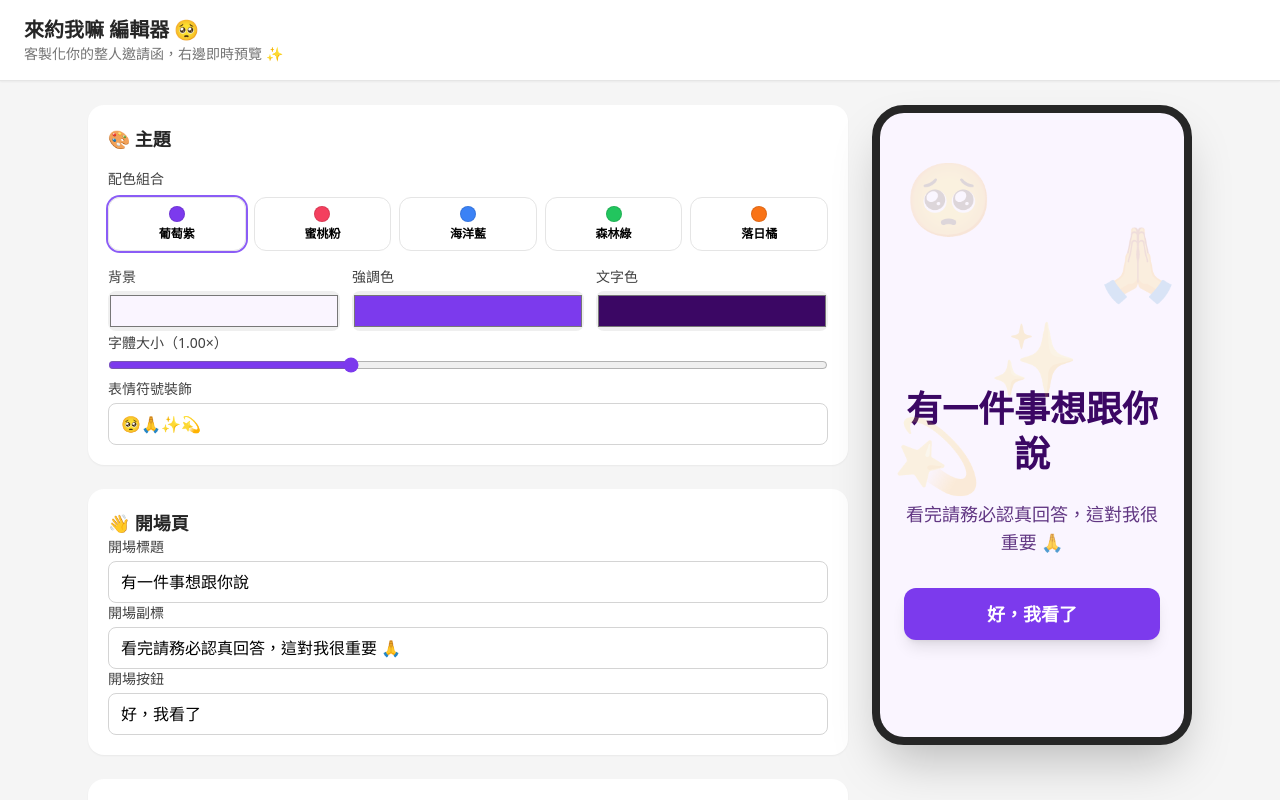
Test: EditorPage — layout › typing intro title updates the phone-frame preview copy
This screenshot has width=1280, height=800.
In the field labelled "開場標題": (468, 582) [108, 561, 828, 603], type "abc"
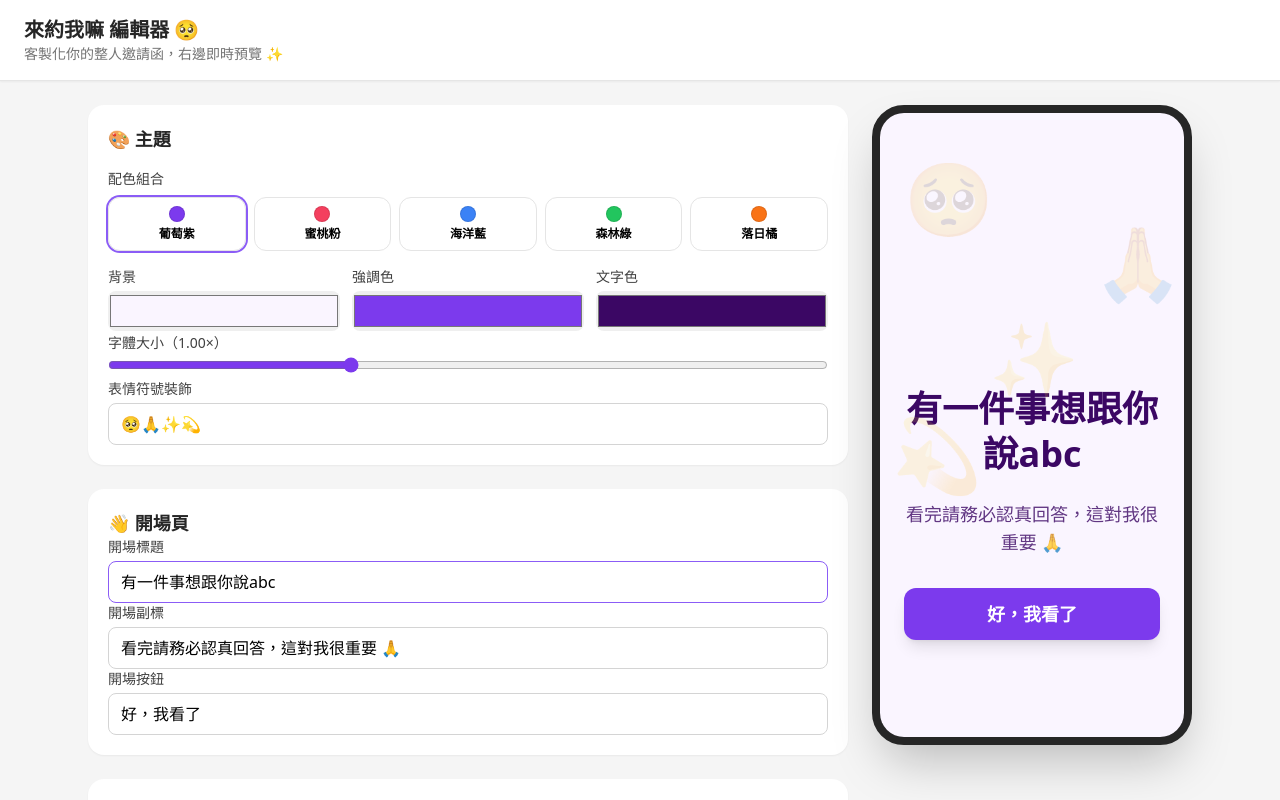
Expected: the heading with test id "intro-title" reads "有一件事想跟你說abc", [906, 384, 1158, 478]
